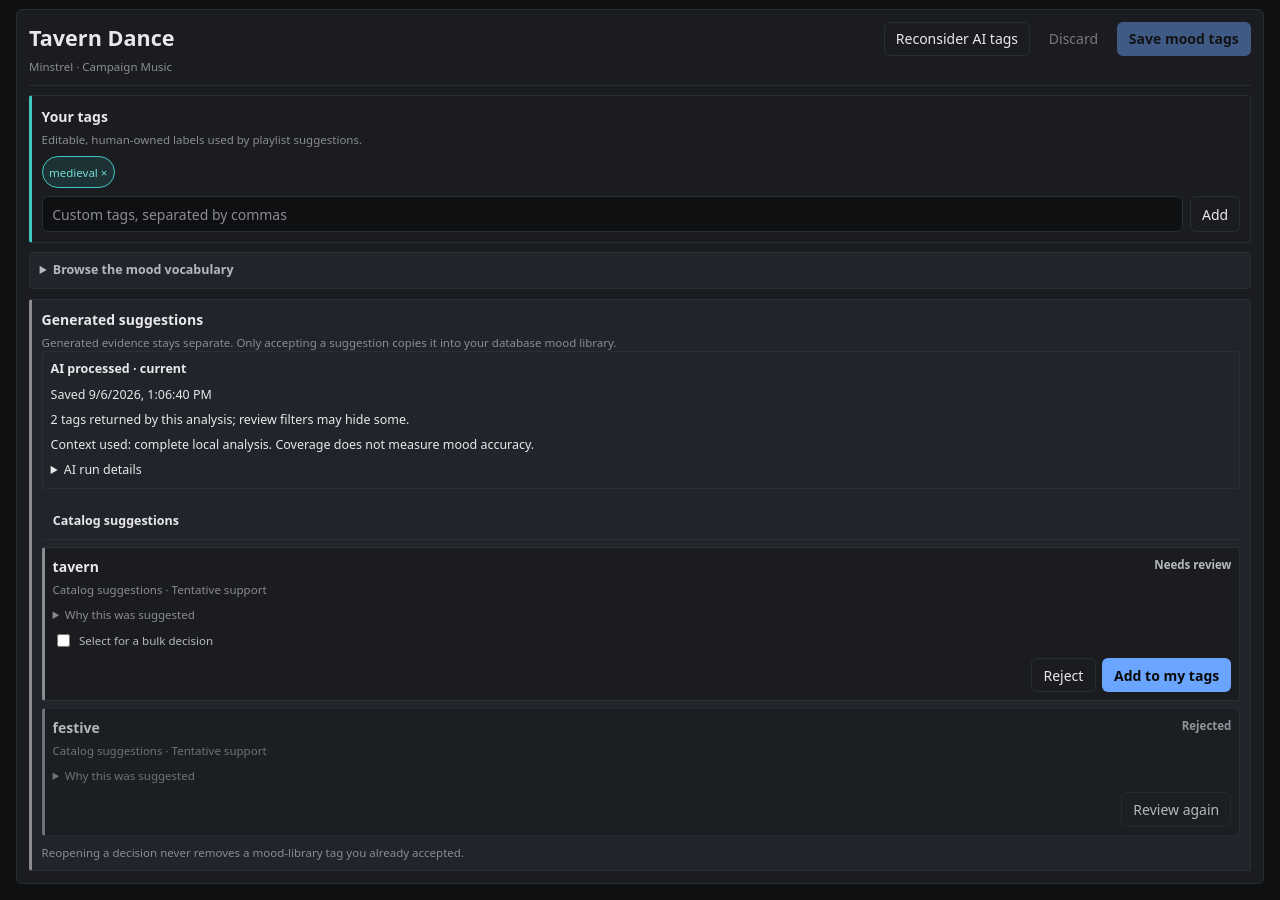
Scenario: LibraryTagEditor › reopens a rejected suggestion without removing manual tags
The image size is (1280, 900).
(page scrolled)
Expected: the heading "Tavern Dance" is shown, [29, 22, 174, 54]
What coordinates should you click on to do the following:
click the button with aria-label "Review festive again"
I would click on:
 (1176, 809)
Its box is [1121, 792, 1231, 826].
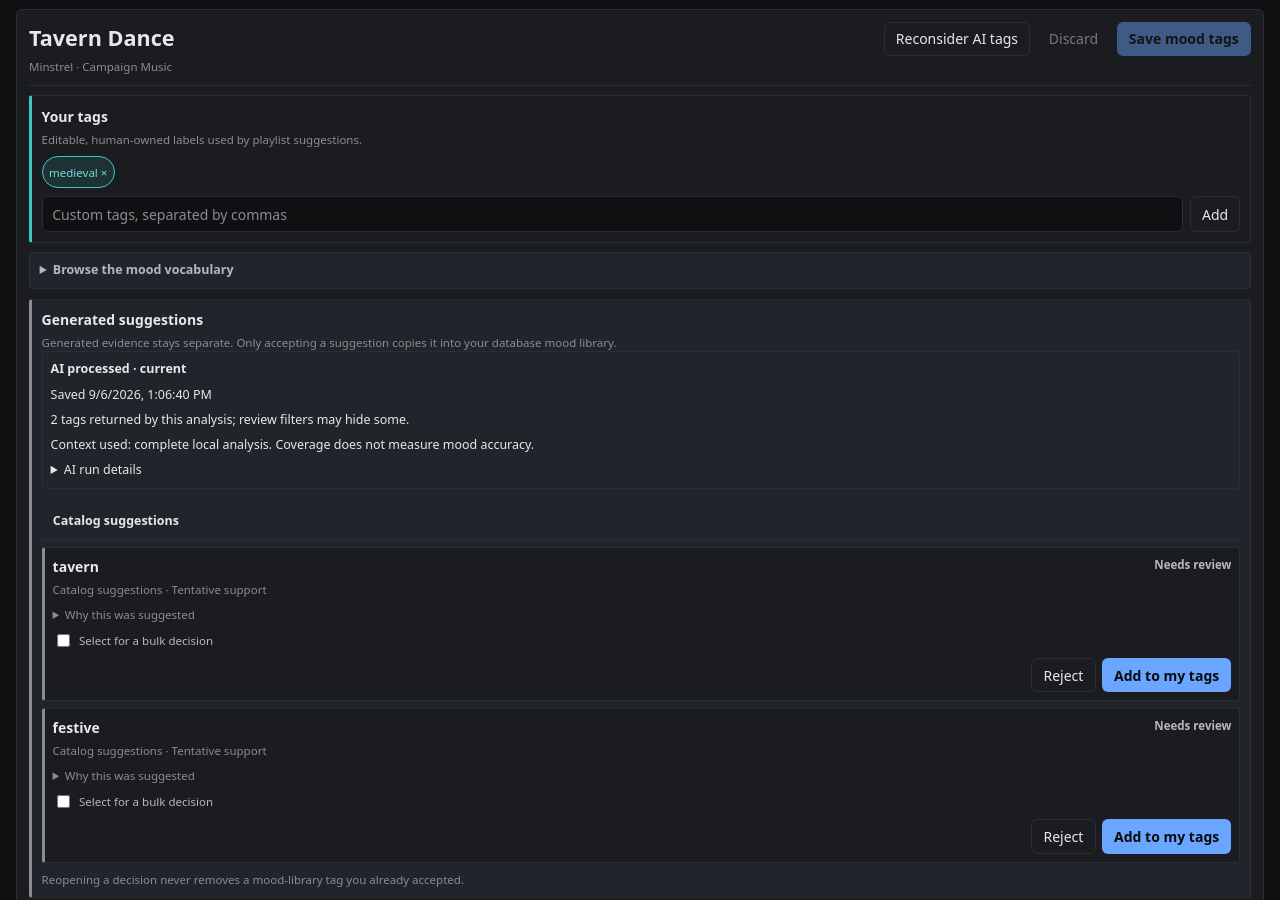
Expected: the button with aria-label "Remove tag medieval" is shown, [42, 156, 115, 188]
Now the button with aria-label "Accept festive into mood library" is shown, box [1102, 819, 1231, 854]
